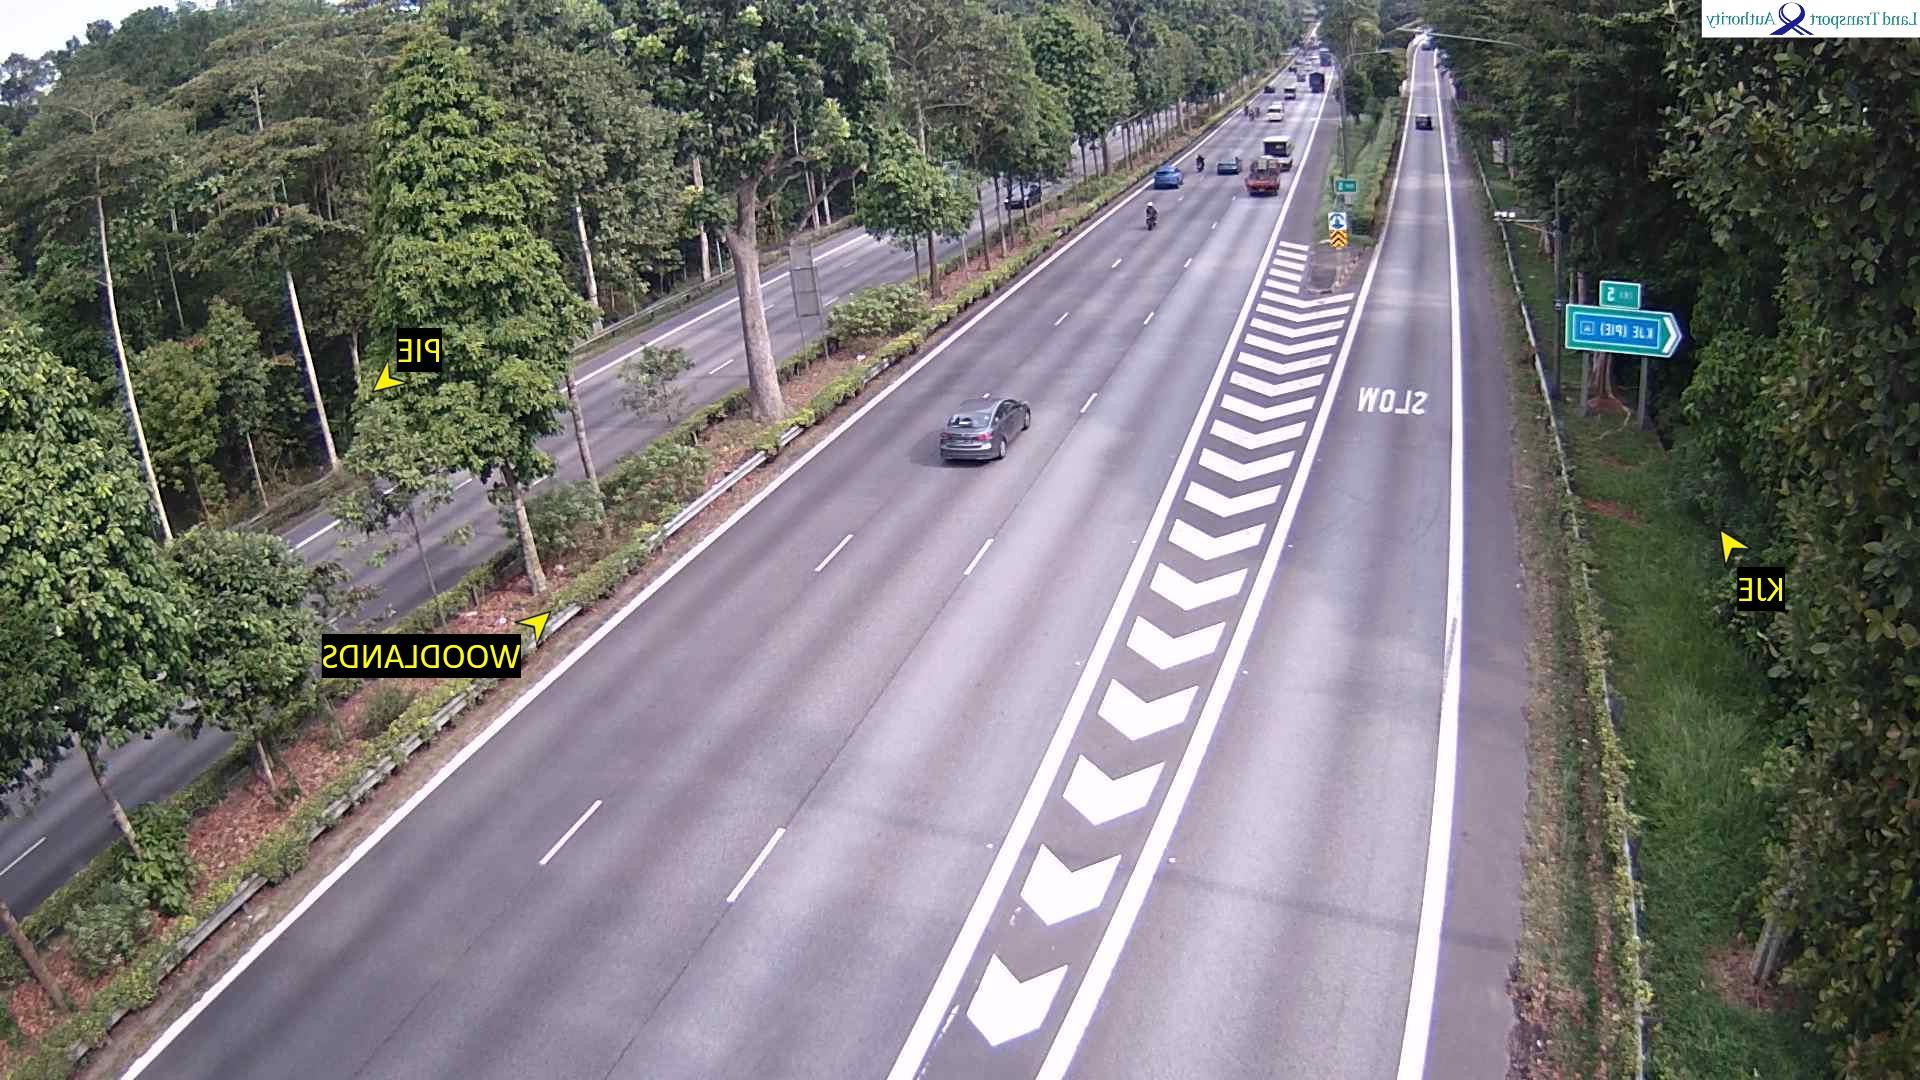cars: (940, 392, 1033, 463), (370, 472, 415, 519), (1005, 180, 1042, 209), (1155, 163, 1184, 188), (1218, 156, 1242, 174), (1266, 102, 1285, 121), (1494, 209, 1517, 222), (1416, 113, 1434, 129), (1245, 100, 1258, 119), (1320, 49, 1335, 65), (1284, 83, 1298, 99), (1436, 48, 1450, 64), (1232, 155, 1243, 172), (1264, 80, 1278, 93), (1423, 38, 1438, 50), (1197, 153, 1206, 171)
motorcycle: (1146, 201, 1159, 230)
trucks: (1246, 155, 1281, 196), (1264, 135, 1294, 170), (1310, 71, 1326, 92)
